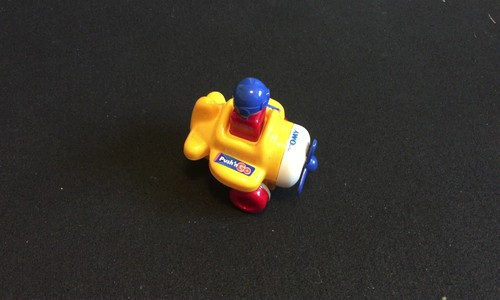toy: (172, 75, 321, 220)
